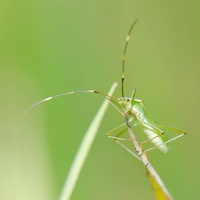insect: (24, 19, 185, 199)
